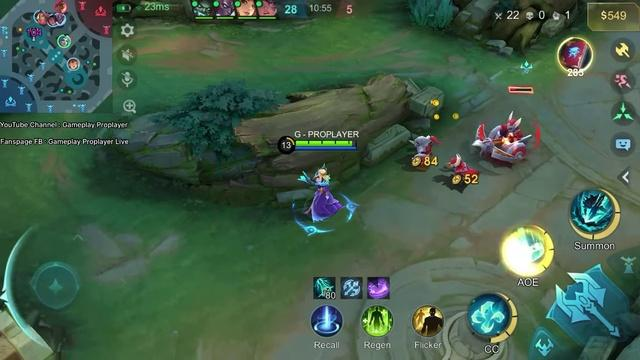Adc_Aliado: (55, 13, 68, 24)
Arbusto: (406, 0, 455, 28)
Esbirro_Enemigo: (481, 112, 532, 161), (447, 154, 478, 173), (412, 134, 439, 153)
Exp_Aliado: (32, 9, 44, 24)
HP_Heroe_Principal: (295, 141, 354, 146)
Hechizo_Batalla: (412, 305, 442, 337)
Jungla_Aliado: (67, 56, 79, 72)
Jungla_Enemigo: (37, 12, 50, 25)
Mana: (294, 145, 358, 151)
Mid_Aliado: (57, 33, 72, 47)
Minimapa: (0, 0, 112, 112)
Roamer_Aliado: (46, 14, 59, 26)
Roamer_Enemigo: (55, 0, 66, 14)
Skill1: (468, 294, 517, 343)
Skill2: (503, 225, 555, 276)
Vexana: (303, 167, 345, 222)
skill3: (571, 188, 620, 238)
